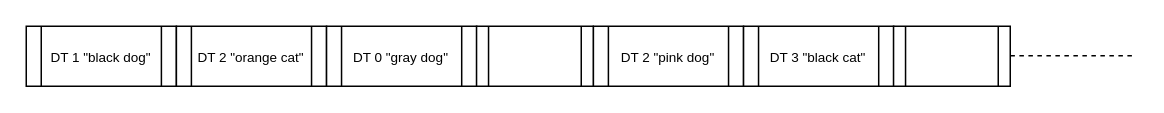
Some shapes in this 1164 by 113 pixel diagram are drawn without their labels. Here are the shapes that lost their labels. From the top down, the box of each, then its label:
(475, 25, 593, 86): WM 1
(892, 25, 1010, 86): WM 3
